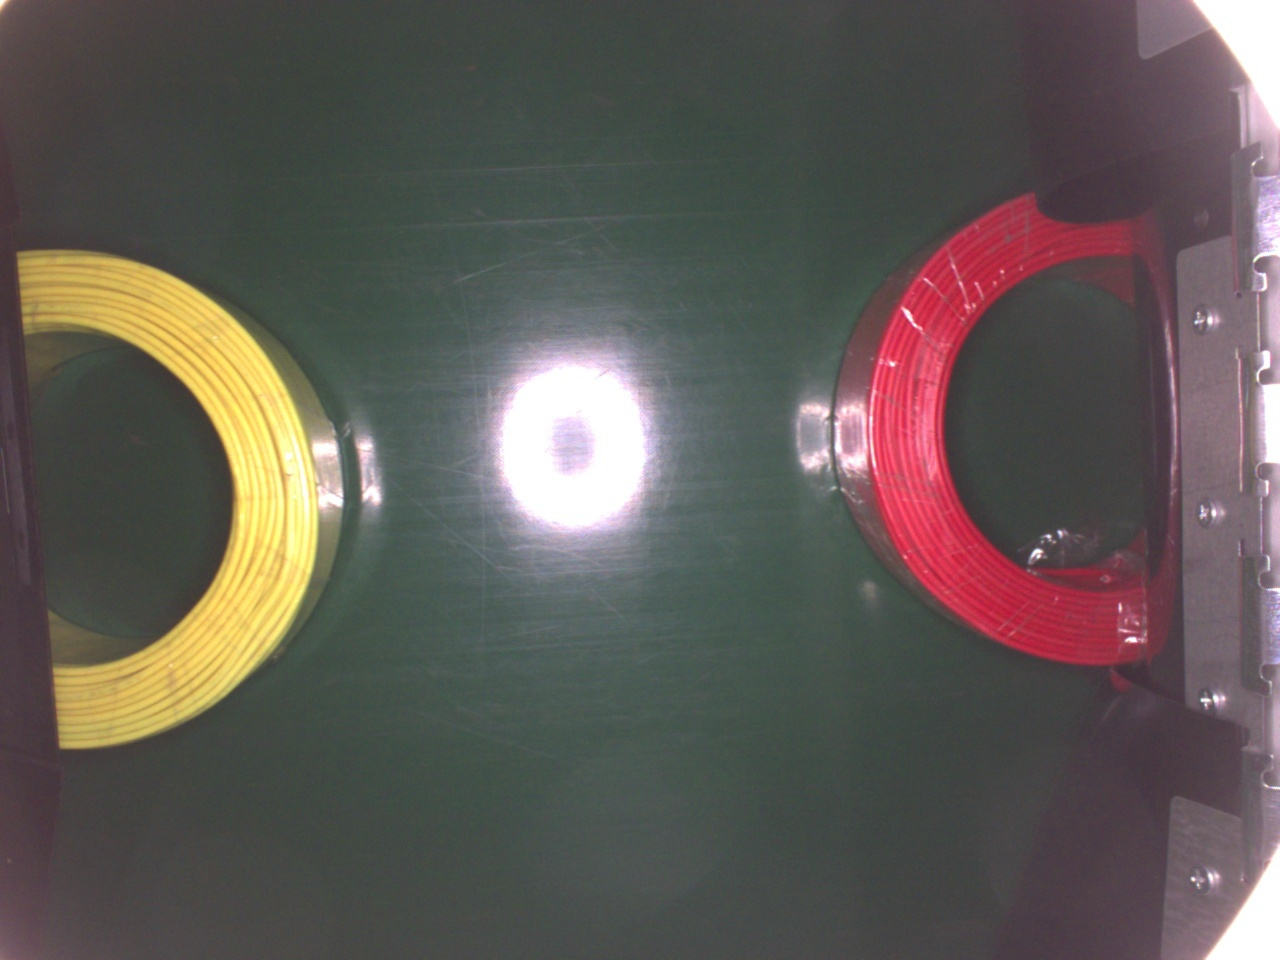red: (828, 189, 1171, 666)
yellow: (15, 244, 348, 752)
